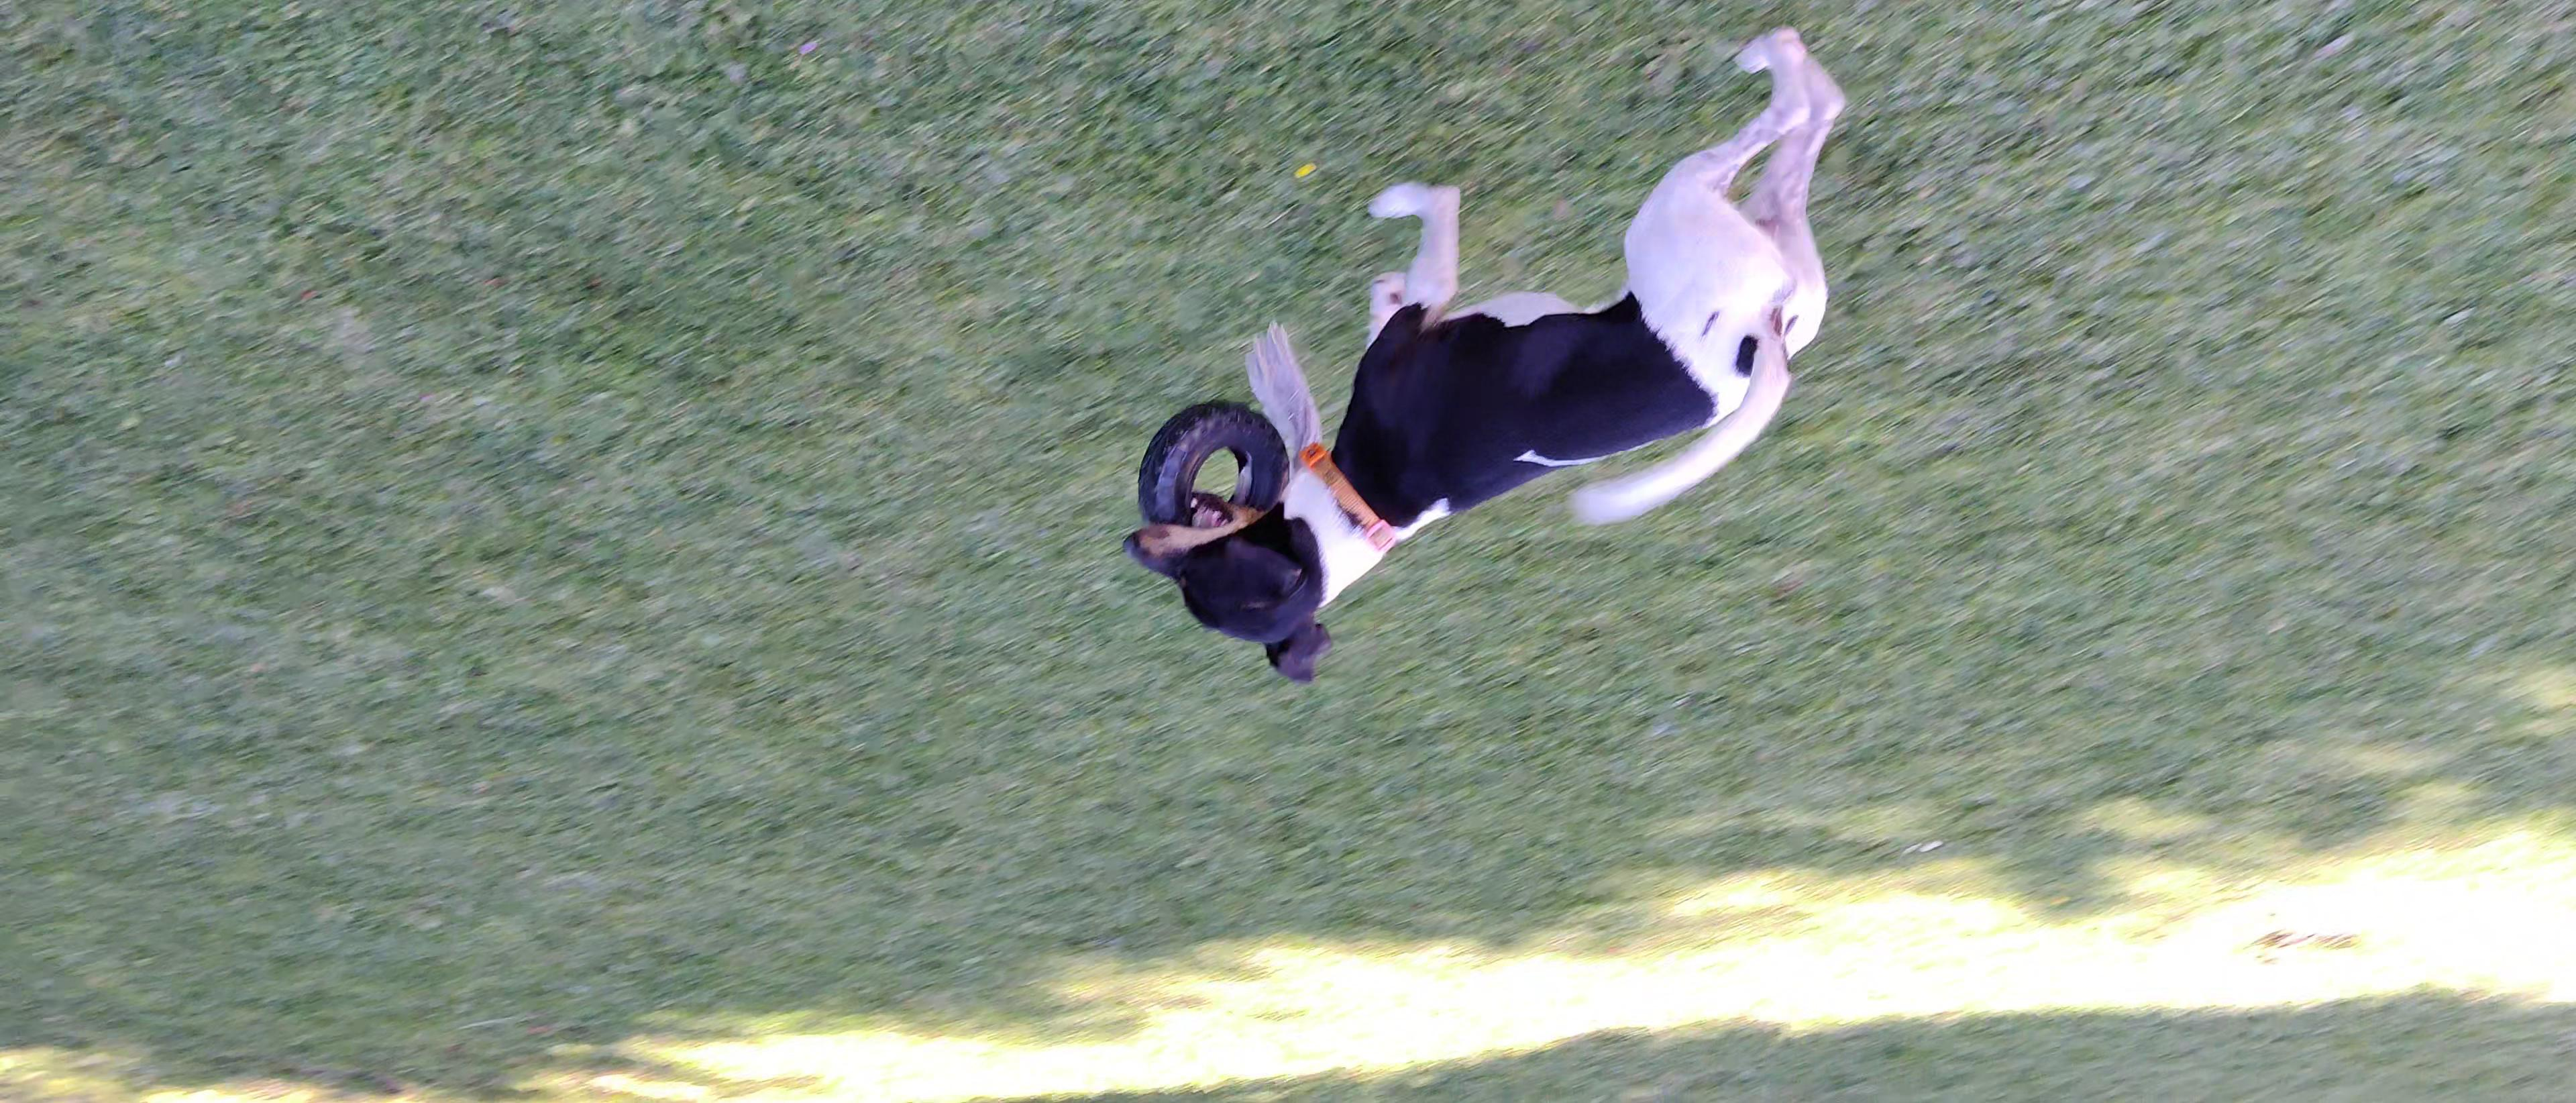Dog: (1119, 21, 1851, 687)
